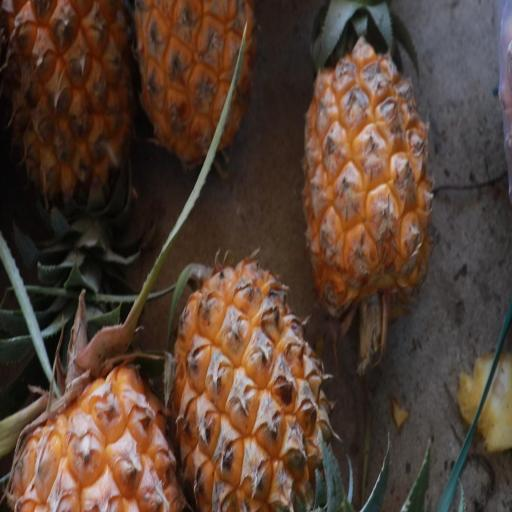Pineapple - v8 v1: (157, 223, 329, 512), (296, 24, 437, 333), (0, 308, 192, 512), (1, 0, 136, 220), (134, 2, 262, 177)
